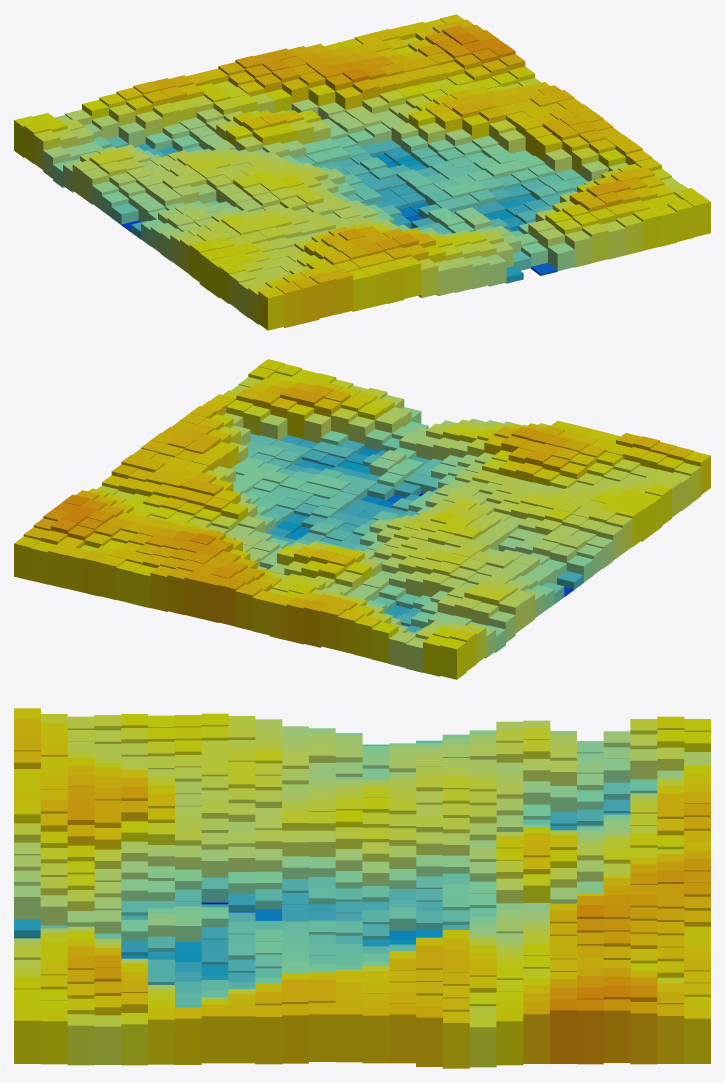
The model's file is population.glb.
3 views of the same model, one above another, from view 1: azimuth 30°, elevation 25°; view 2: azimuth 150°, elevation 25°; view 3: azimuth 270°, elevation 25° (orthographic). The views are drawn at different scales.
Visible parts, largest first — view 1: population; view 2: population; view 3: population.
Part boxes in pixels (bbox=[...]): population: bbox=[14, 14, 710, 330]; population: bbox=[14, 359, 710, 679]; population: bbox=[14, 708, 710, 1068].
Bounding box in the file's own units: 2600 × 276 × 2583.
